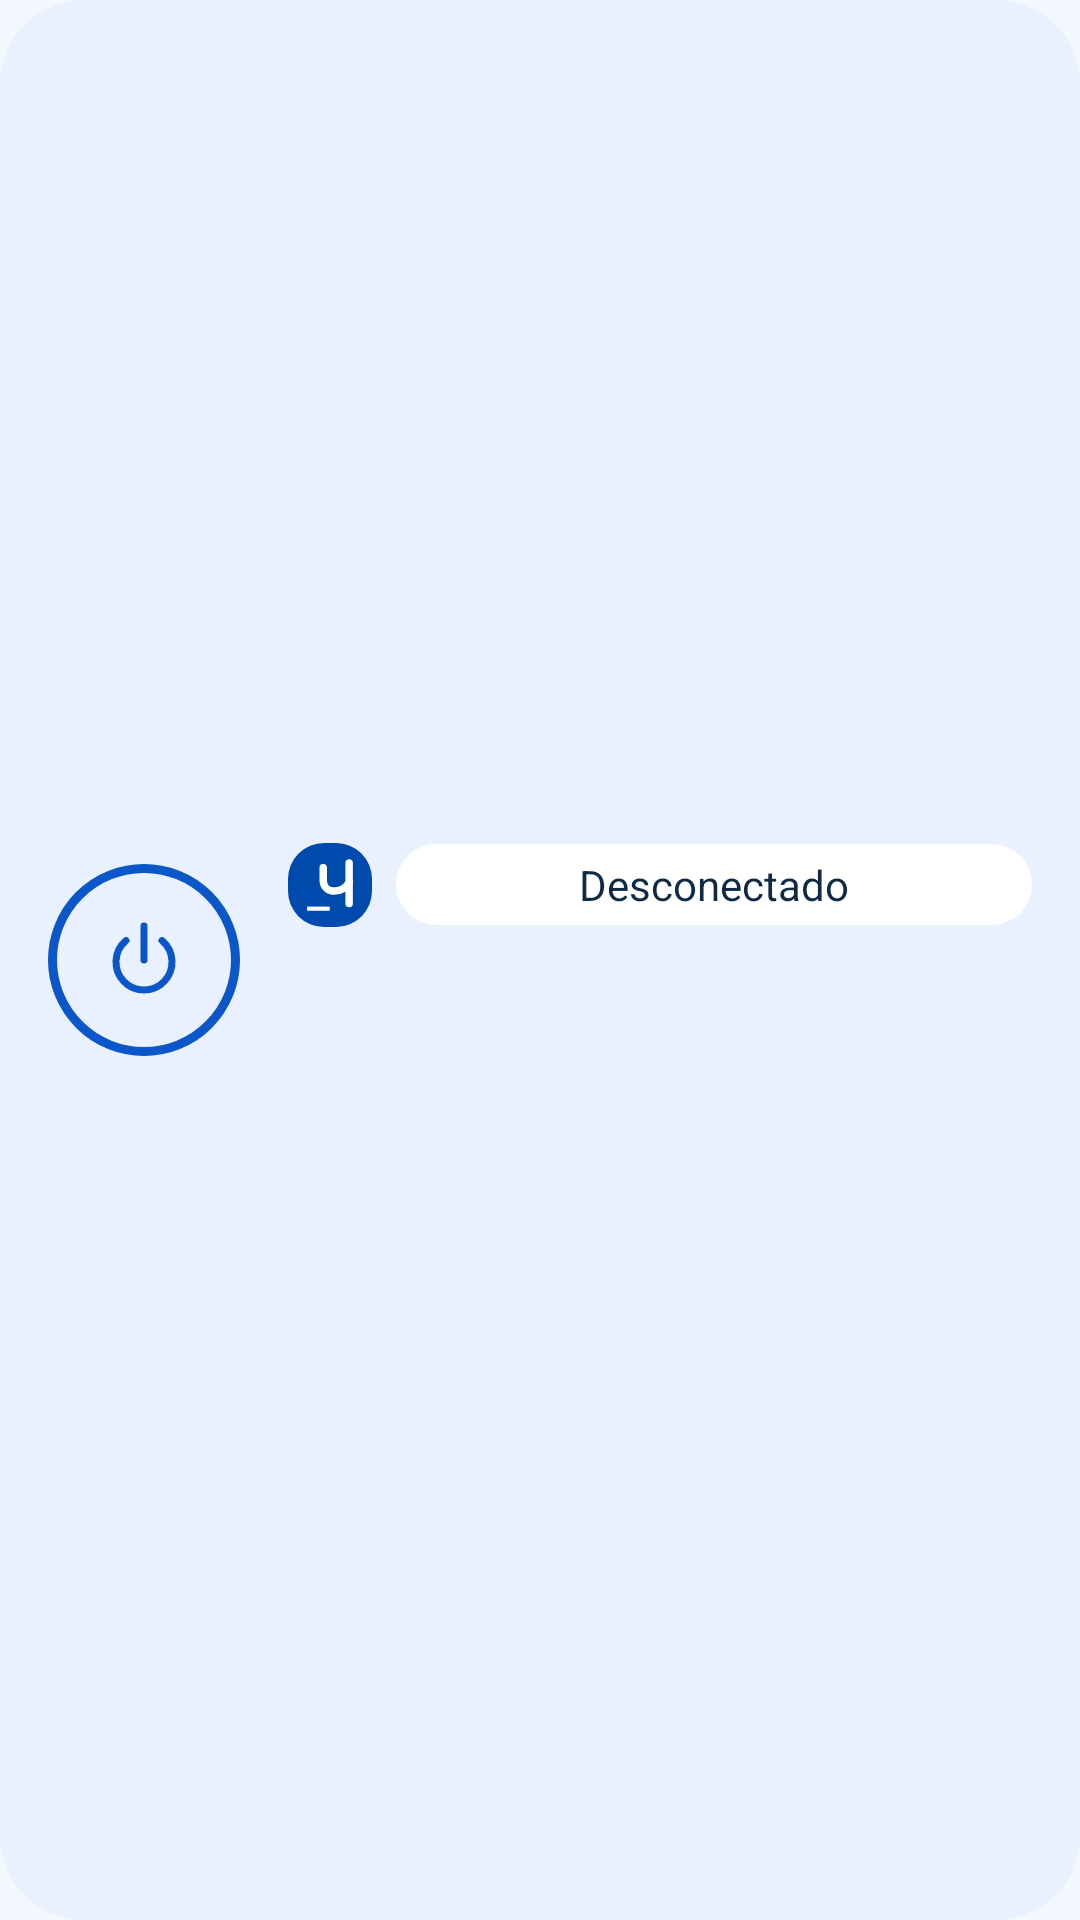

Locate icon controls on the screen. Image size 1080w x 1920h, boxes as (x1, y1, x2, y2).
Conectar o desconectar: (48, 864, 240, 1056)
